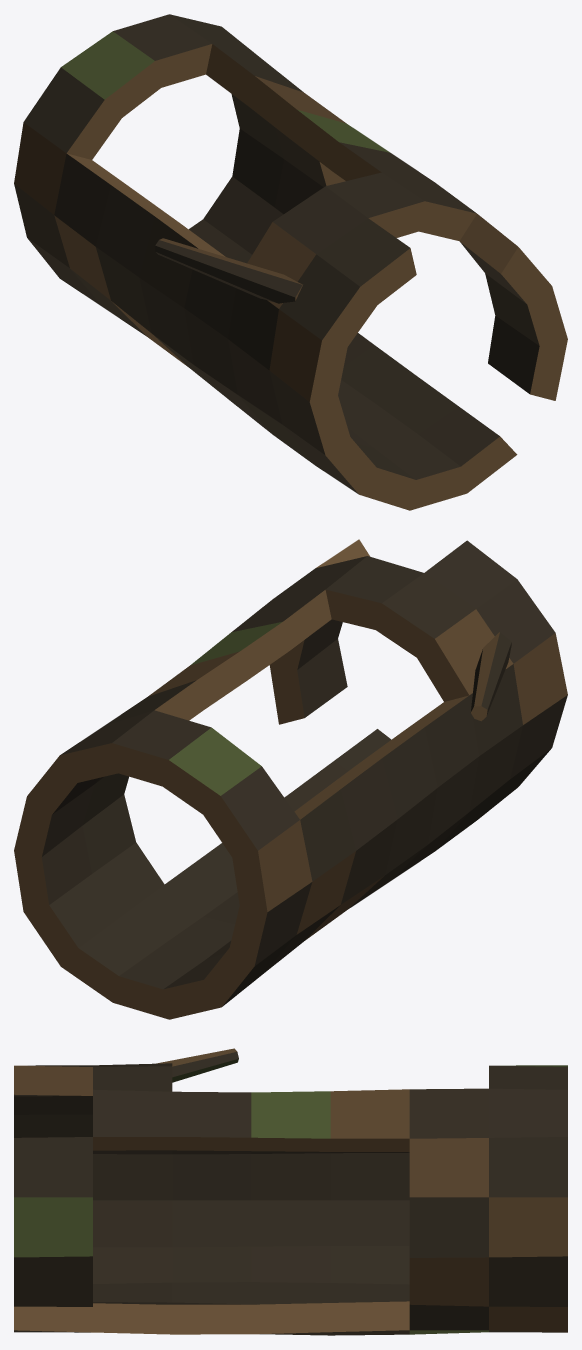
File: wood_008b_broad_broken_hollow.glb
3 renders of one model, top to bottom at view 1: azimuth 30°, elevation 25°; view 2: azimuth 150°, elevation 25°; view 3: azimuth 270°, elevation 25°, orthographic. The views are drawn at different scales.
Visible parts, largest first — view 1: wood_008b_broad_broken_hollow__mesh; view 2: wood_008b_broad_broken_hollow__mesh; view 3: wood_008b_broad_broken_hollow__mesh.
Part boxes in pixels (left/top/right/bottom): wood_008b_broad_broken_hollow__mesh: left=14, top=14, right=567, bottom=510; wood_008b_broad_broken_hollow__mesh: left=14, top=539, right=567, bottom=1019; wood_008b_broad_broken_hollow__mesh: left=14, top=1048, right=567, bottom=1335.
Size of the model in its own units: 5.28 by 4.52 by 9.2.
